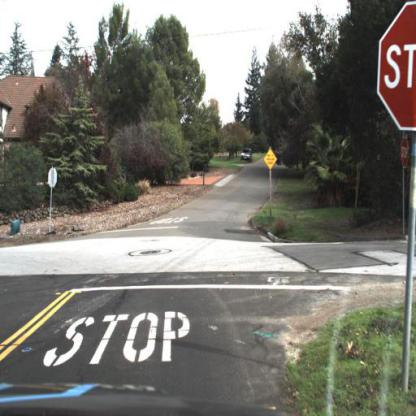car: (239, 148, 254, 168)
